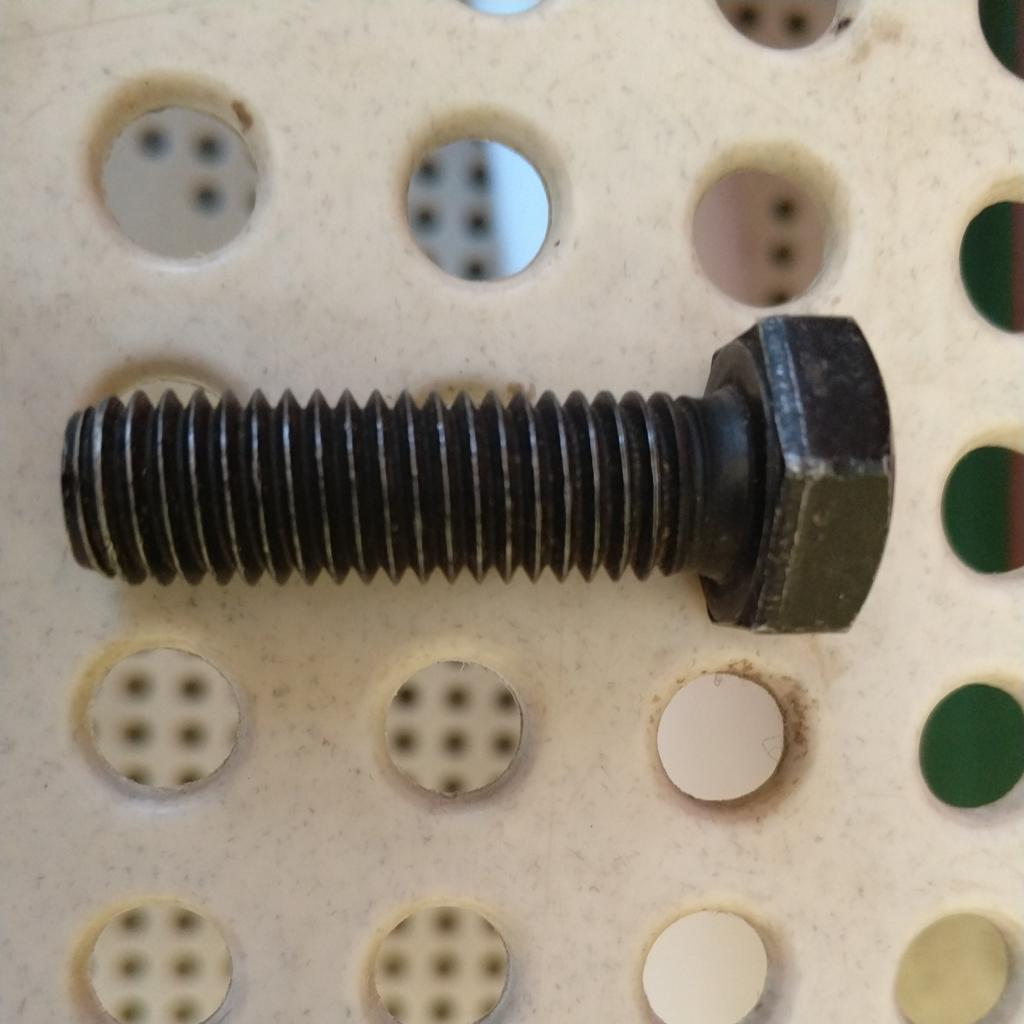screwtype2black: (48, 304, 908, 642)
